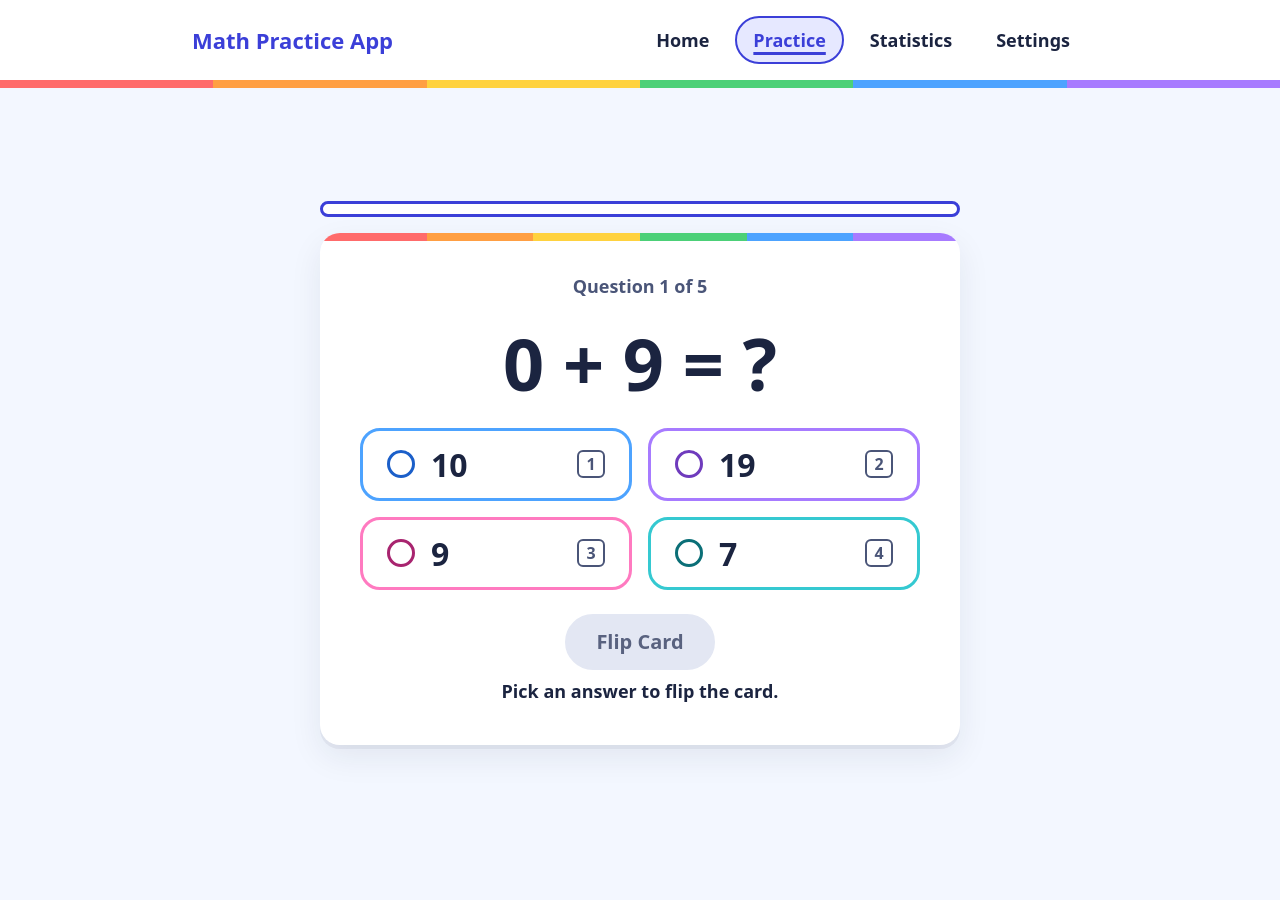
Scenario: PracticePage › recording results › counts "I Got It Wrong" and moves to the next question
Click the button "10 1": x=449, y=464 [360,428,632,501]
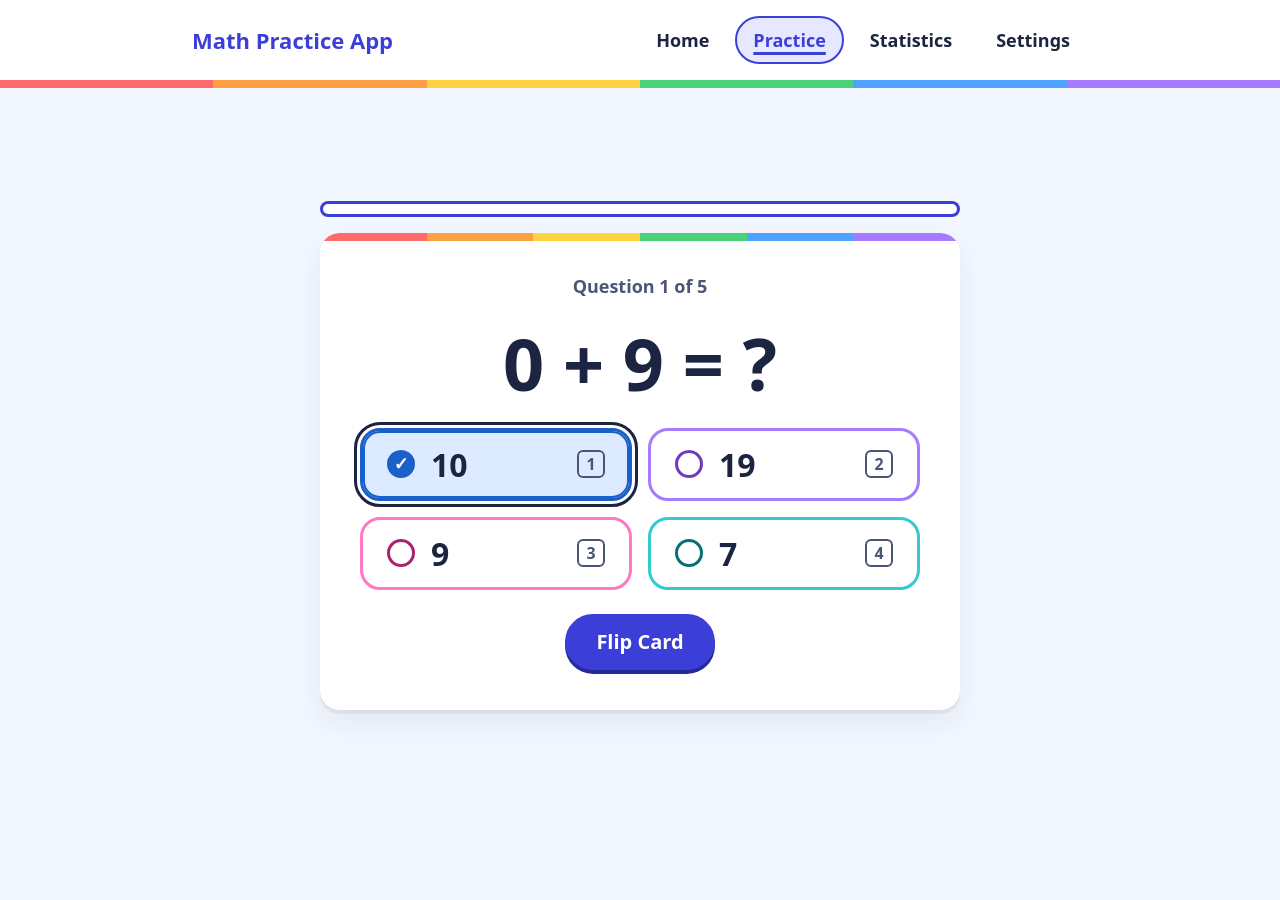
Click the button "Flip Card": x=640, y=642 [565,614,715,670]
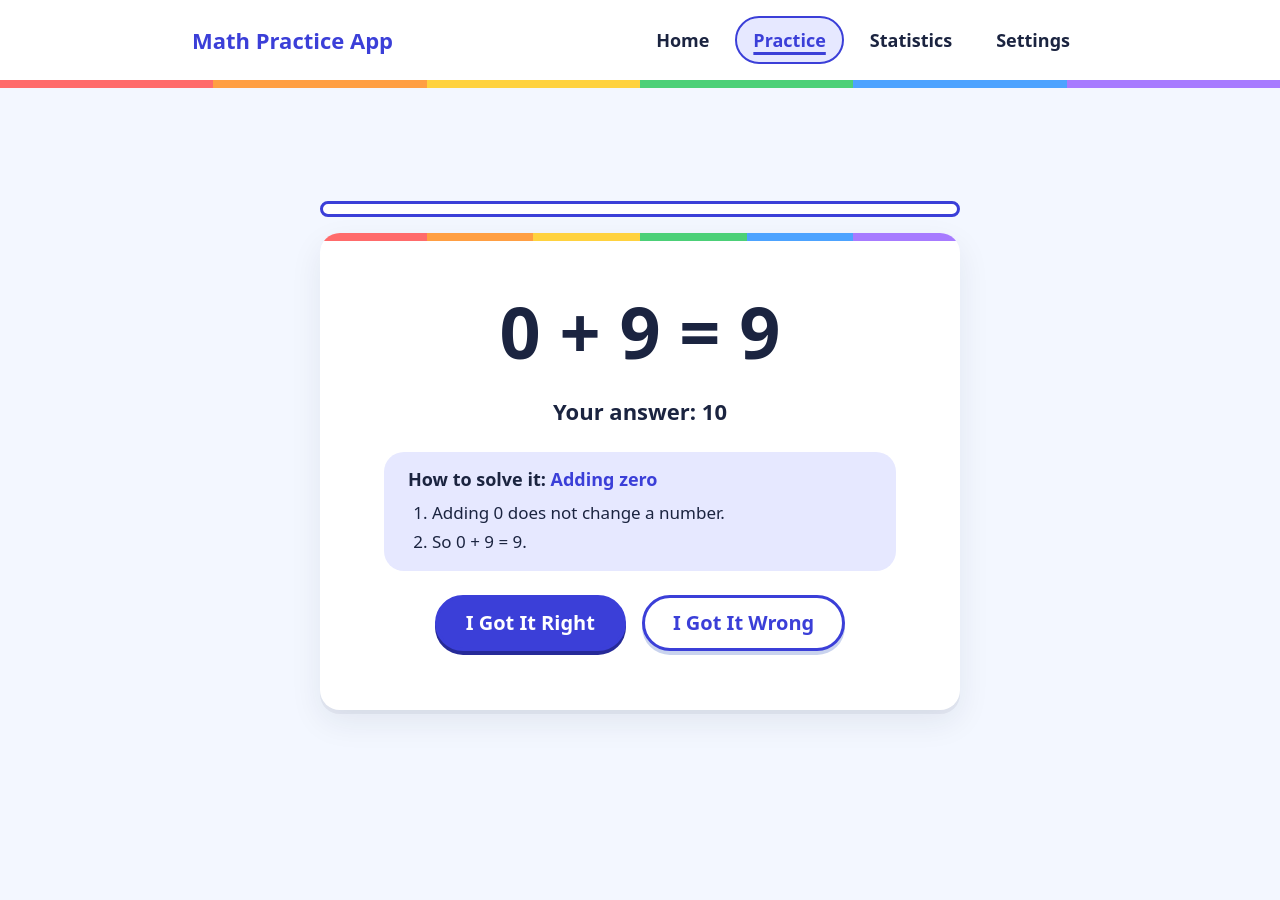
Click the button "I Got It Wrong": x=744, y=623 [642,595,845,651]
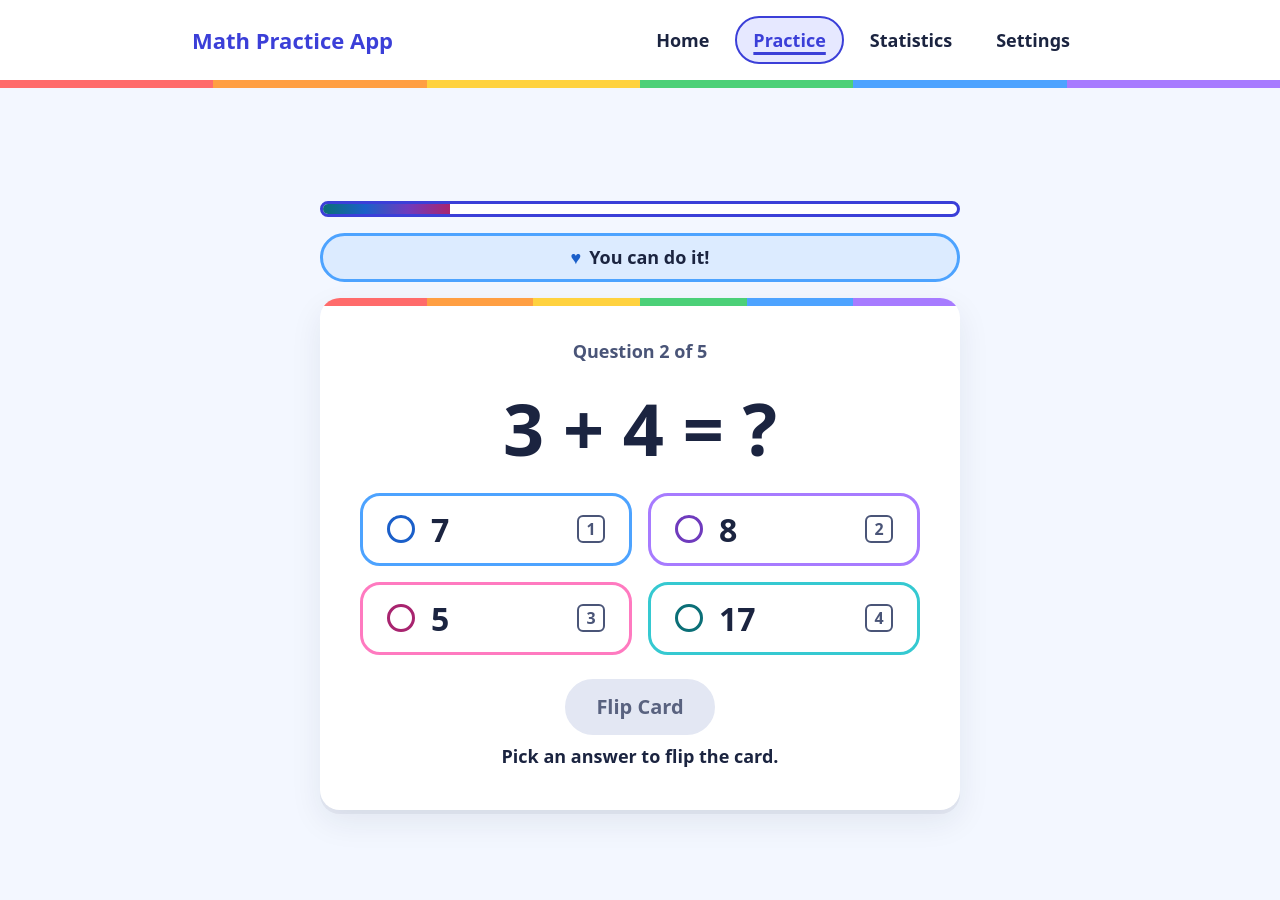
Now the text "Question 2 of 5" is shown, box [573,338,707,365]
